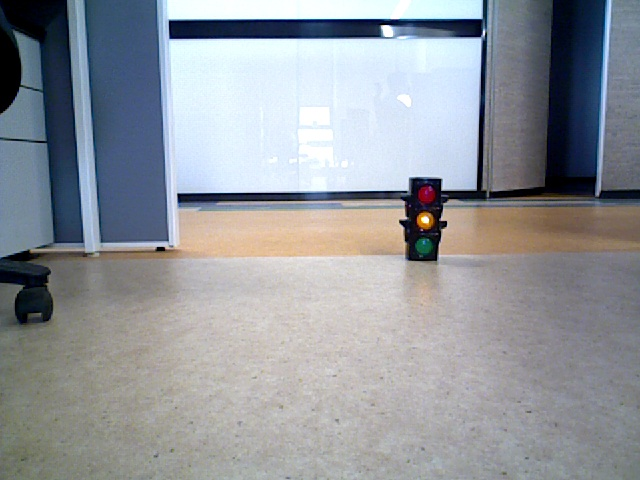yellow: (411, 180, 437, 258)
